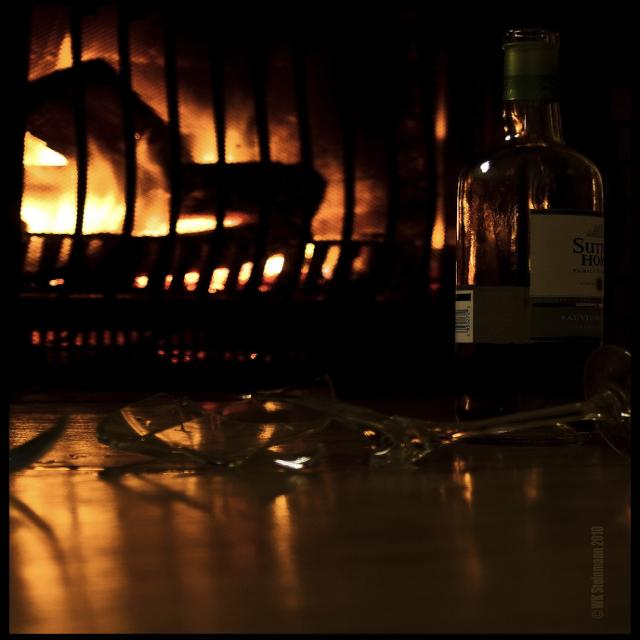Bottle: (390, 19, 640, 441)
Cup: (101, 364, 637, 498)
